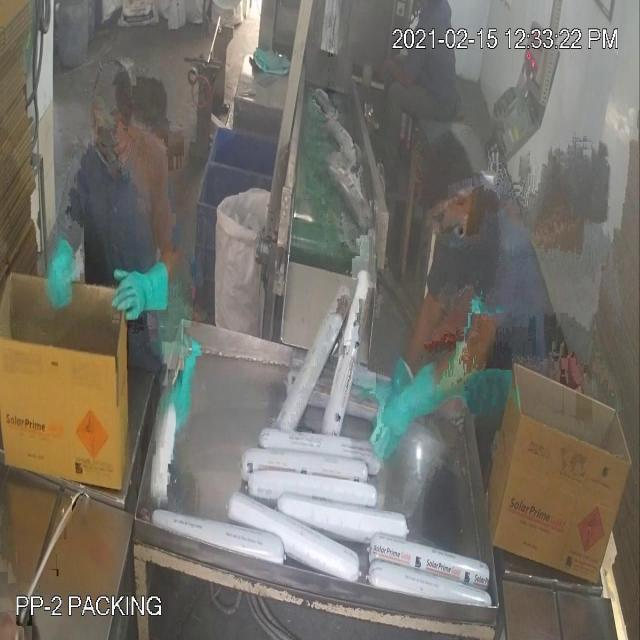Gloves: (50, 50, 405, 412)
